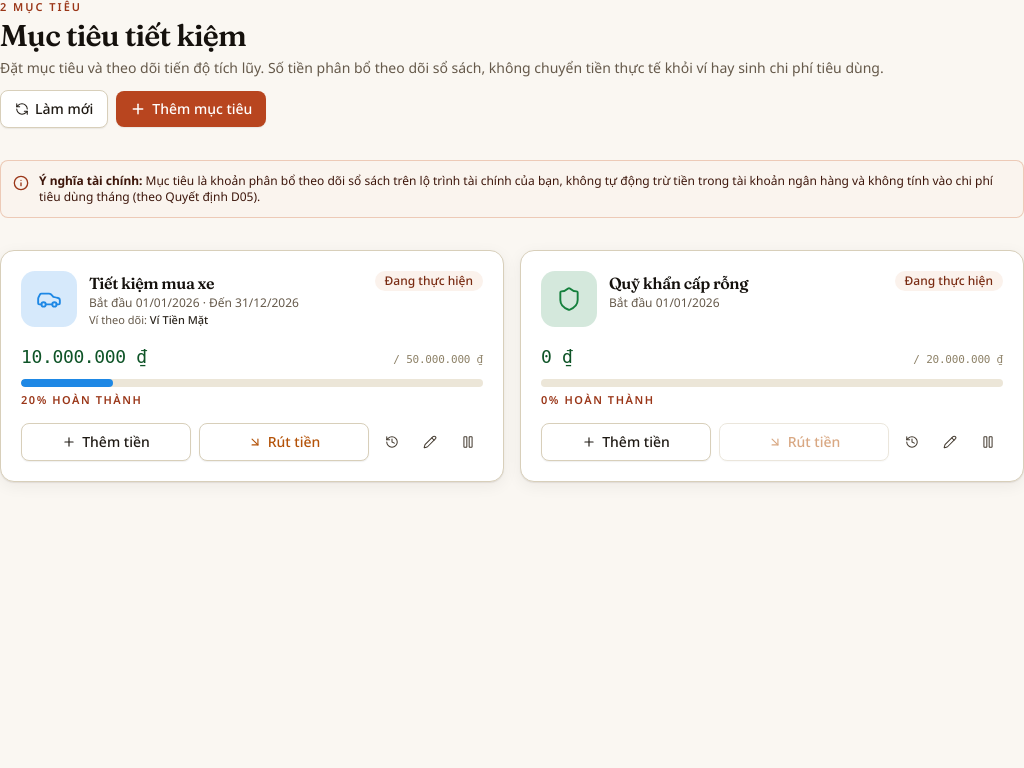
Test case: GoalsPage (TIP-008 / F16) › prevents overdraw when withdrawal amount exceeds balance (AC-008-2)
Expected: the text "Tiết kiệm mua xe" is shown, [89,273,214,293]
Click the button "Rút tiền" below "10.000.000 ₫" at (284, 442), box [199,423,369,461]
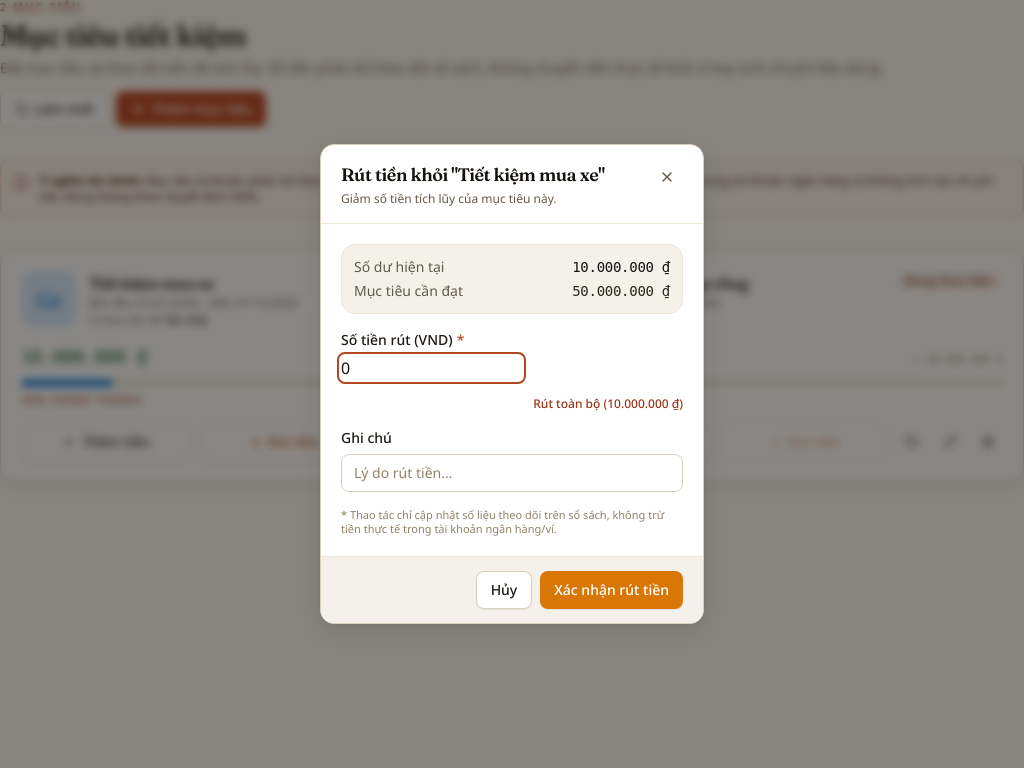
Replace the text in the field with placeholder "VD: 500.000" with "15000000" at (432, 368), box [341,356,522,380]
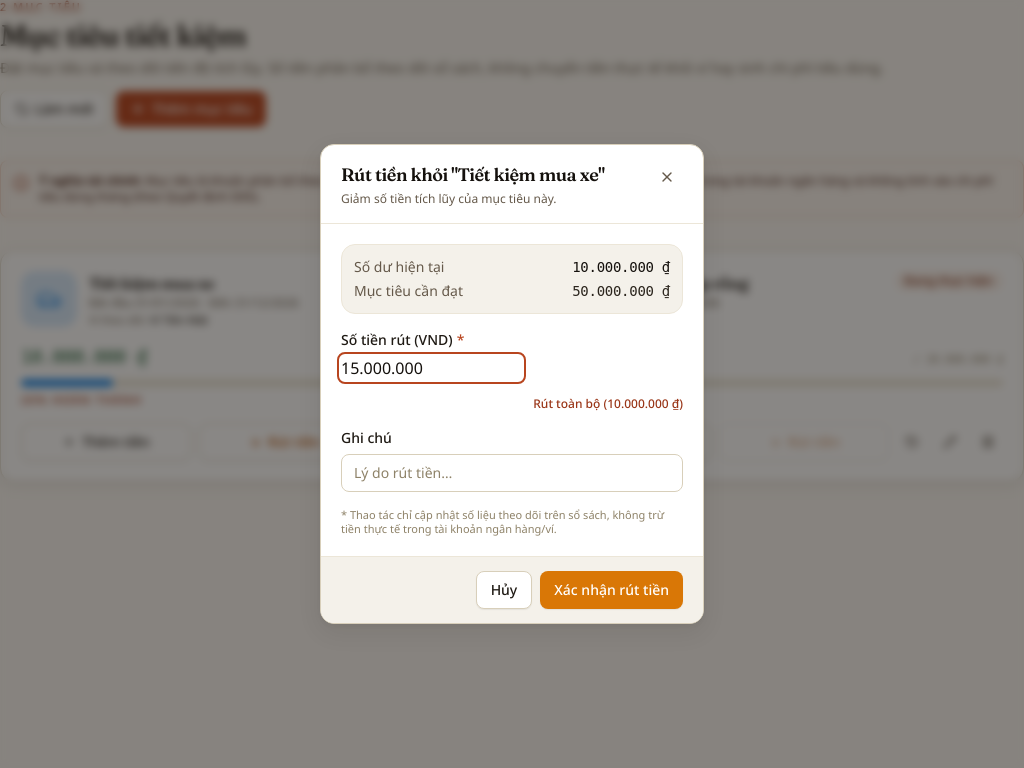
# Click submit
Click the button "Xác nhận rút tiền" at (612, 590), box [540,571,683,609]
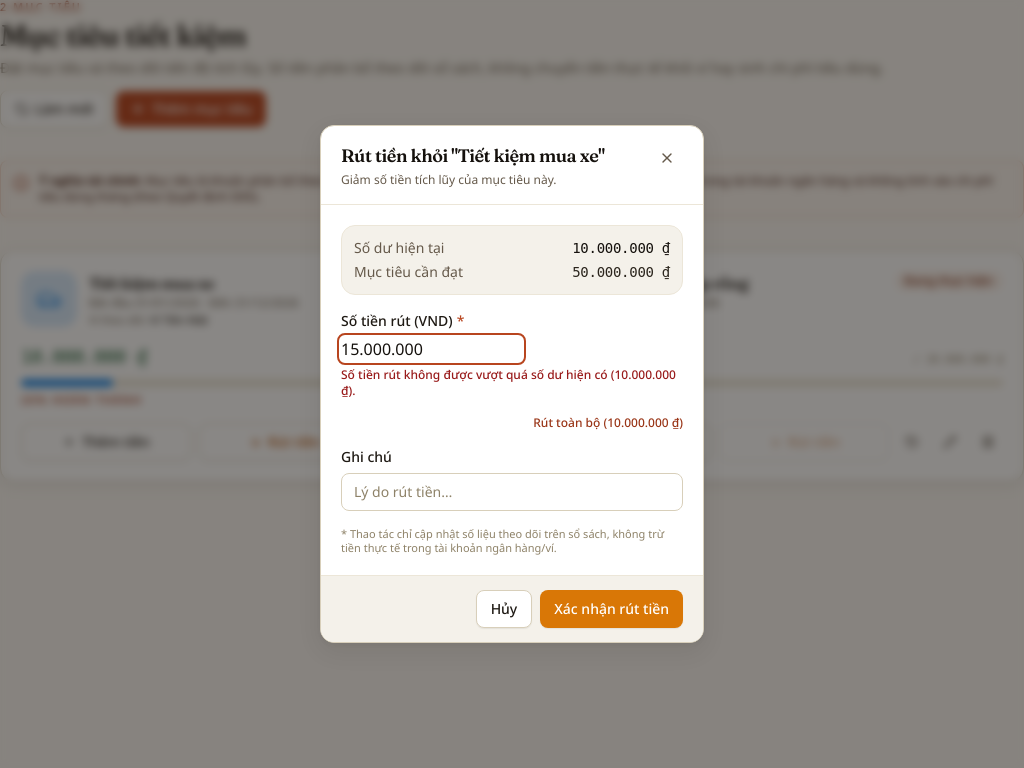
Result: the text "Số tiền rút không được vượt quá số dư hiện có (10.000.000 ₫)." is shown at [341,367,683,399]
